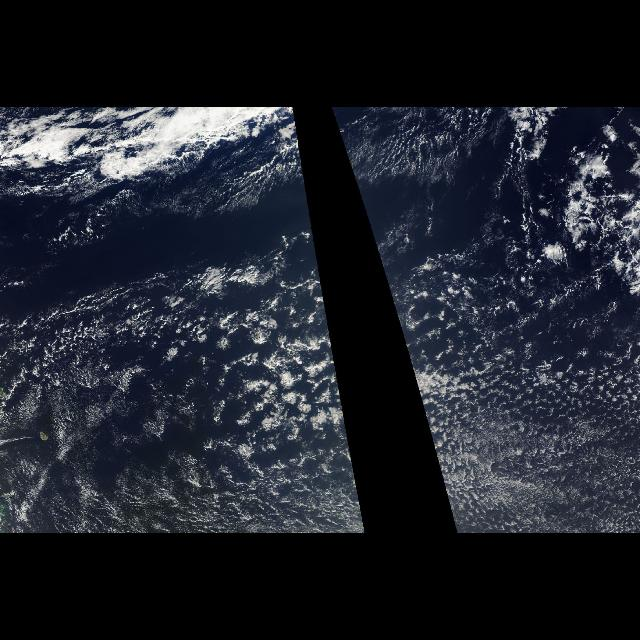Gravel: (87, 286, 356, 476), (388, 286, 562, 476)
Sugar: (430, 372, 638, 532)
